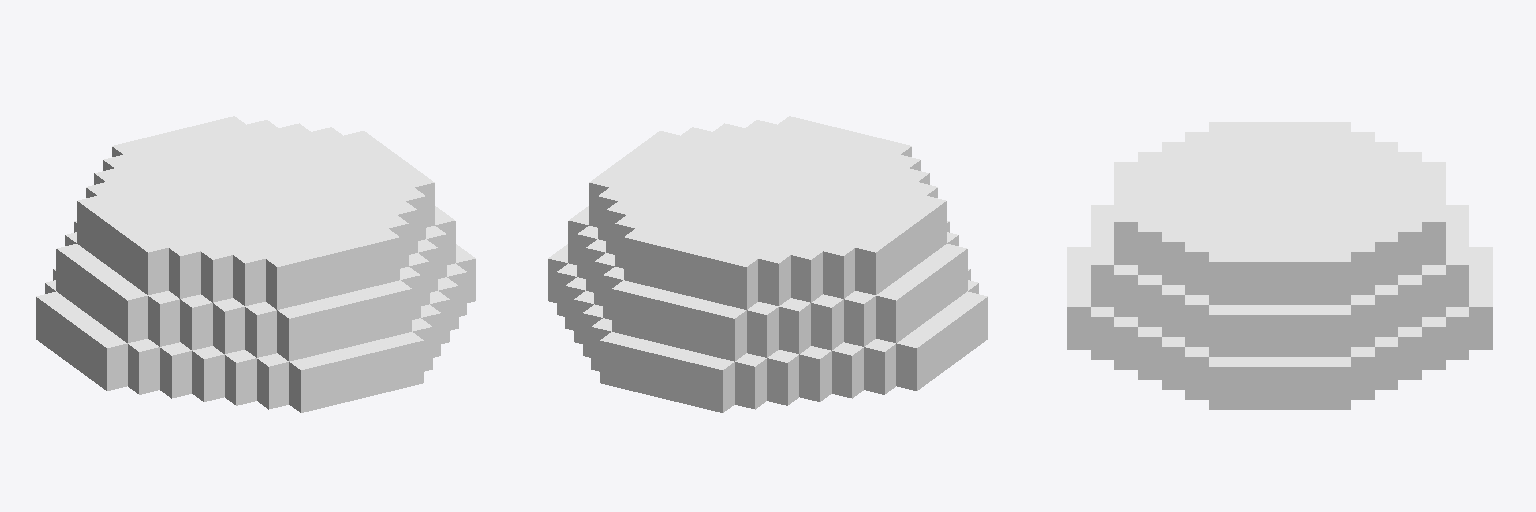
The model's file is CheckpointInActive.obj.
3 views of the same model, side by side, from view 1: azimuth 30°, elevation 25°; view 2: azimuth 150°, elevation 25°; view 3: azimuth 270°, elevation 25° (orthographic).
Parts seen in each view (by area): view 1: object 1; view 2: object 1; view 3: object 1.
Part boxes in pixels (x1,y1,x2,y2): object 1: (36,116,475,412); object 1: (548,116,987,412); object 1: (1067,122,1492,409).
Bounding box in the file's own units: 1.8 × 0.6 × 1.8.